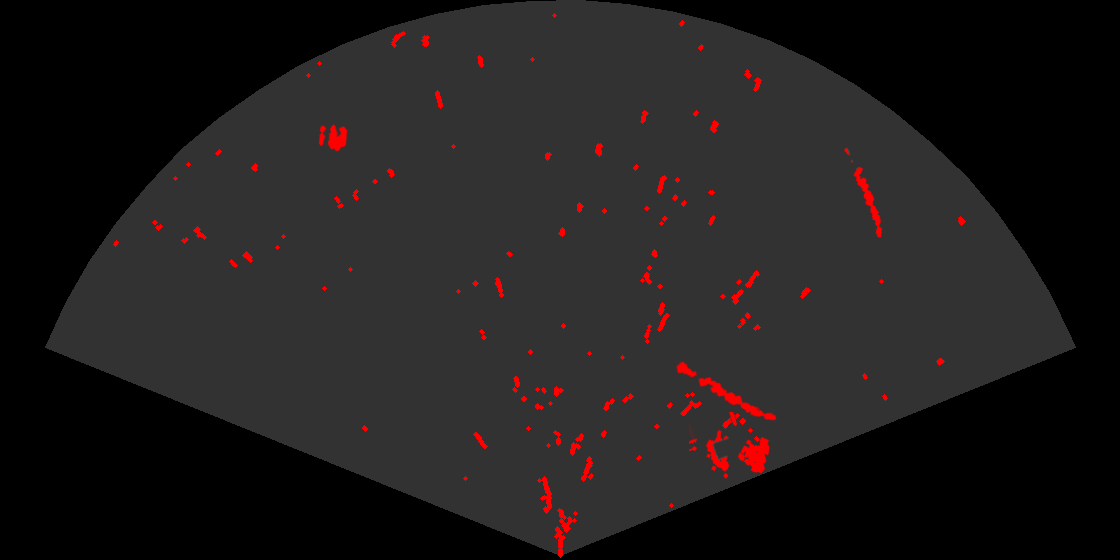ball: (317, 123, 349, 153)
cage: (689, 412, 771, 480)
chain: (675, 360, 778, 422), (843, 146, 884, 239)
